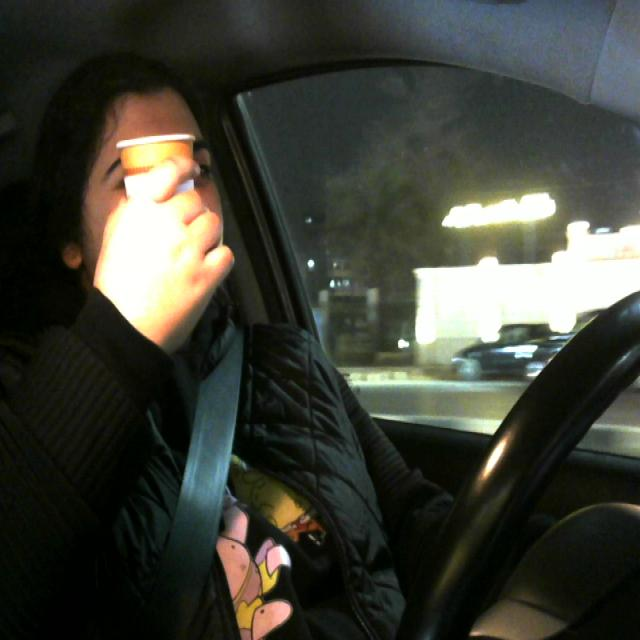drinking: (116, 130, 208, 278)
